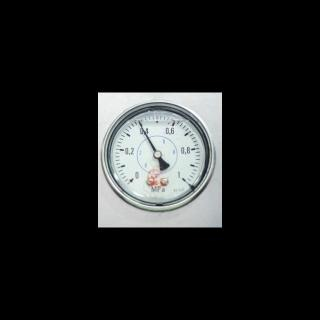gauge: (98, 94, 222, 226), (172, 170, 192, 190), (124, 172, 140, 188), (153, 150, 162, 158), (135, 119, 141, 125)
